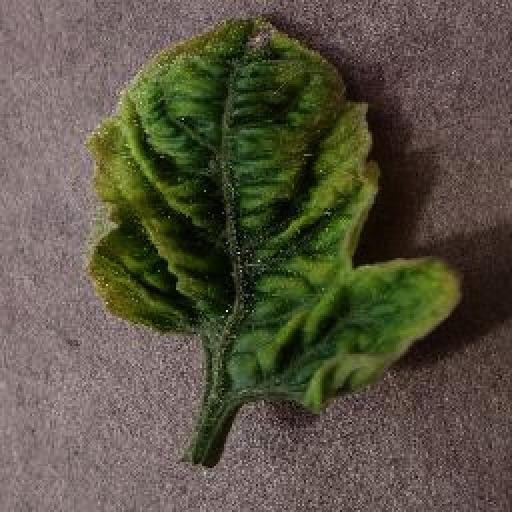disease_tomato: (94, 12, 460, 418)
